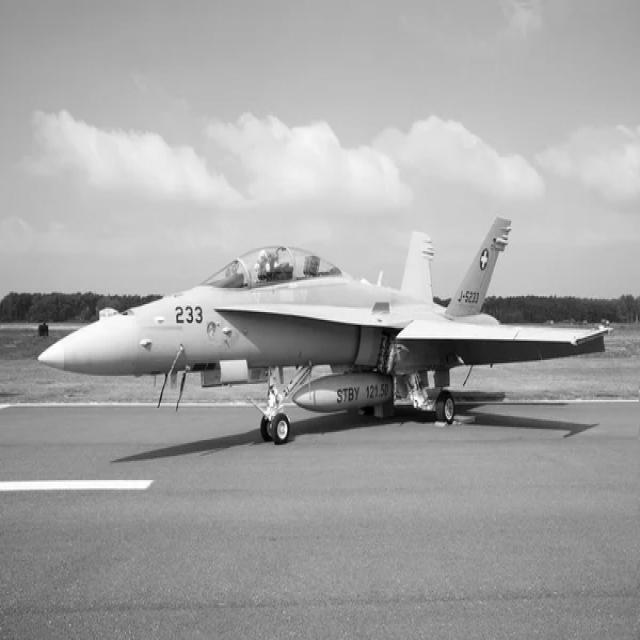Aircraft: (35, 206, 604, 458)
